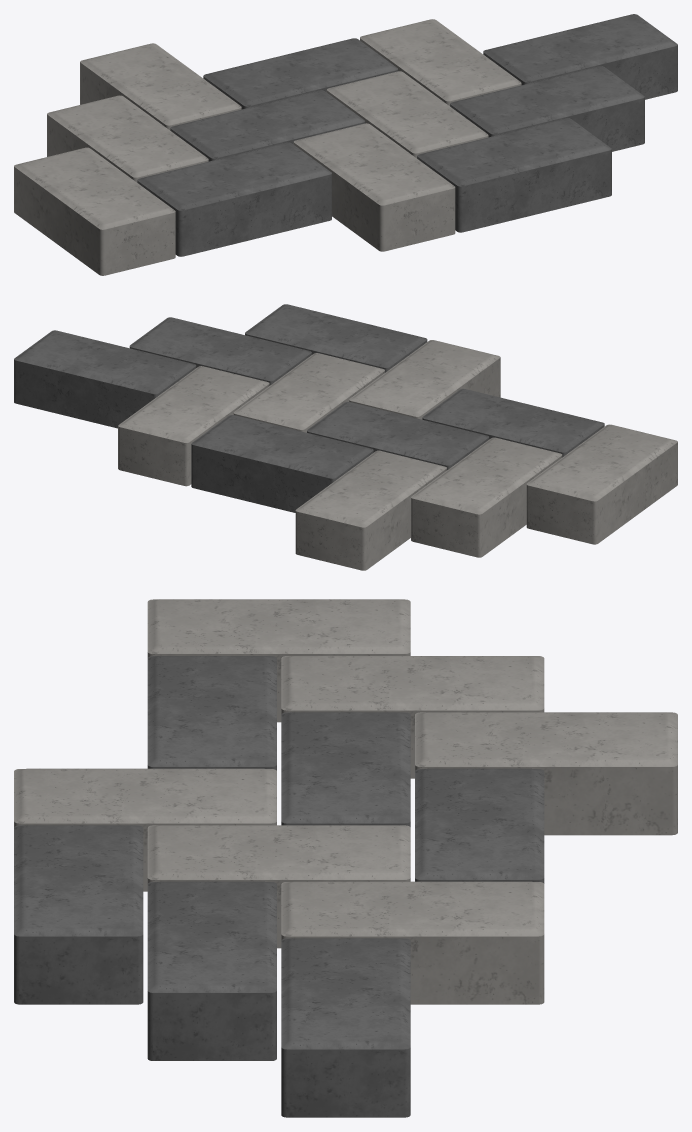
The model's file is herringbone-1.glb.
The picture shows the model from 3 angles, top to bottom: view 1: azimuth 30°, elevation 25°; view 2: azimuth 150°, elevation 25°; view 3: azimuth 270°, elevation 25°; orthographic projection. The views are drawn at different scales.
Visible parts, largest first — view 1: Colonial Classic.023, Colonial Classic.022, Colonial Classic.014, Colonial Classic.013, Colonial Classic.017, Colonial Classic.020, Colonial Classic.027, Colonial Classic.025, Colonial Classic.024, Colonial Classic.026, Colonial Classic.018, Colonial Classic.021; view 2: Colonial Classic.023, Colonial Classic.026, Colonial Classic.020, Colonial Classic.025, Colonial Classic.027, Colonial Classic.021, Colonial Classic.013, Colonial Classic.017, Colonial Classic.022, Colonial Classic.024, Colonial Classic.014, Colonial Classic.018; view 3: Colonial Classic.021, Colonial Classic.027, Colonial Classic.014, Colonial Classic.020, Colonial Classic.017, Colonial Classic.013, Colonial Classic.023, Colonial Classic.018, Colonial Classic.025, Colonial Classic.024, Colonial Classic.026, Colonial Classic.022.
Part boxes in pixels (x1=…): Colonial Classic.023: x1=14, y1=147, x2=175, y2=275; Colonial Classic.022: x1=137, y1=142, x2=331, y2=256; Colonial Classic.014: x1=417, y1=118, x2=611, y2=232; Colonial Classic.013: x1=293, y1=123, x2=455, y2=251; Colonial Classic.017: x1=450, y1=66, x2=644, y2=151; Colonial Classic.020: x1=483, y1=14, x2=677, y2=99; Colonial Classic.027: x1=80, y1=43, x2=241, y2=130; Colonial Classic.025: x1=47, y1=95, x2=208, y2=182; Colonial Classic.024: x1=170, y1=90, x2=365, y2=161; Colonial Classic.026: x1=203, y1=38, x2=398, y2=109; Colonial Classic.018: x1=326, y1=71, x2=488, y2=158; Colonial Classic.021: x1=360, y1=19, x2=521, y2=105; Colonial Classic.023: x1=526, y1=424, x2=677, y2=544; Colonial Classic.026: x1=191, y1=415, x2=373, y2=512; Colonial Classic.020: x1=14, y1=330, x2=196, y2=428; Colonial Classic.025: x1=411, y1=437, x2=562, y2=557; Colonial Classic.027: x1=295, y1=450, x2=446, y2=570; Colonial Classic.021: x1=118, y1=366, x2=269, y2=486; Colonial Classic.013: x1=349, y1=340, x2=500, y2=419; Colonial Classic.017: x1=129, y1=317, x2=311, y2=385; Colonial Classic.022: x1=422, y1=388, x2=604, y2=457; Colonial Classic.024: x1=307, y1=402, x2=489, y2=470; Colonial Classic.014: x1=245, y1=304, x2=427, y2=372; Colonial Classic.018: x1=233, y1=353, x2=384, y2=432; Colonial Classic.021: x1=281, y1=881, x2=544, y2=1004; Colonial Classic.027: x1=415, y1=712, x2=677, y2=835; Colonial Classic.014: x1=14, y1=825, x2=143, y2=1004; Colonial Classic.020: x1=281, y1=938, x2=410, y2=1117; Colonial Classic.017: x1=147, y1=881, x2=276, y2=1060; Colonial Classic.013: x1=14, y1=768, x2=276, y2=891; Colonial Classic.023: x1=147, y1=599, x2=410, y2=722; Colonial Classic.018: x1=147, y1=825, x2=410, y2=948; Colonial Classic.025: x1=281, y1=656, x2=544, y2=778; Colonial Classic.024: x1=281, y1=712, x2=410, y2=826; Colonial Classic.026: x1=415, y1=768, x2=544, y2=883; Colonial Classic.022: x1=147, y1=656, x2=276, y2=770.
Size of the model in its own units: 0.8096 by 0.0603 by 0.5048.
2 materials, 2 textured.
